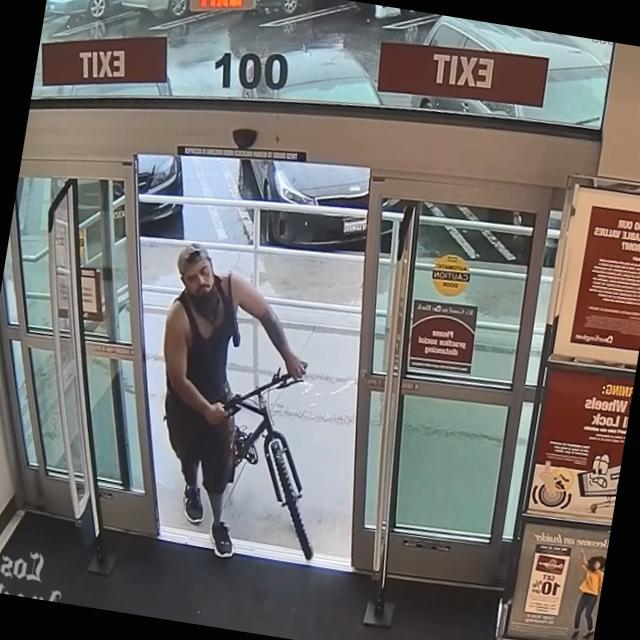person: (130, 238, 323, 568)
